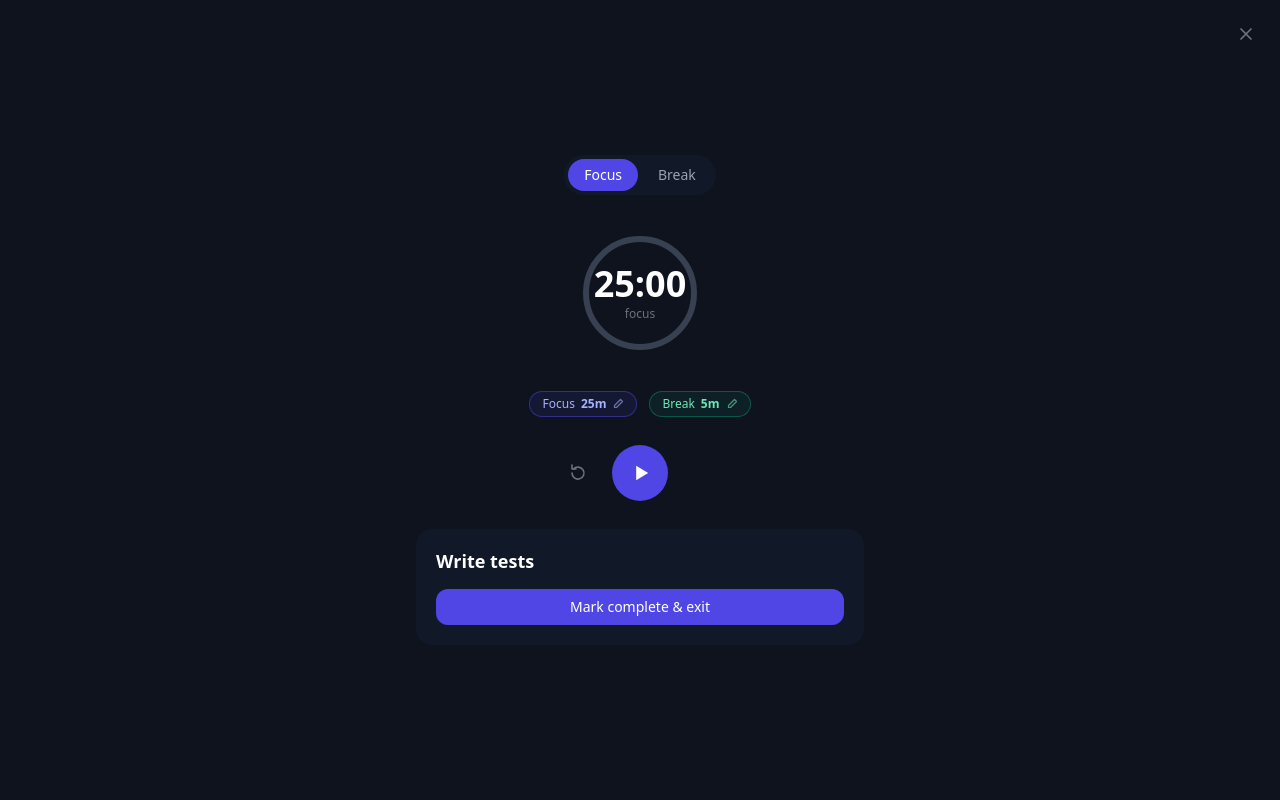
Test: FocusMode – interactions › returns to Start timer after Pause is clicked
Click the button named "start timer": [640, 473] box 612,445 -> 668,501
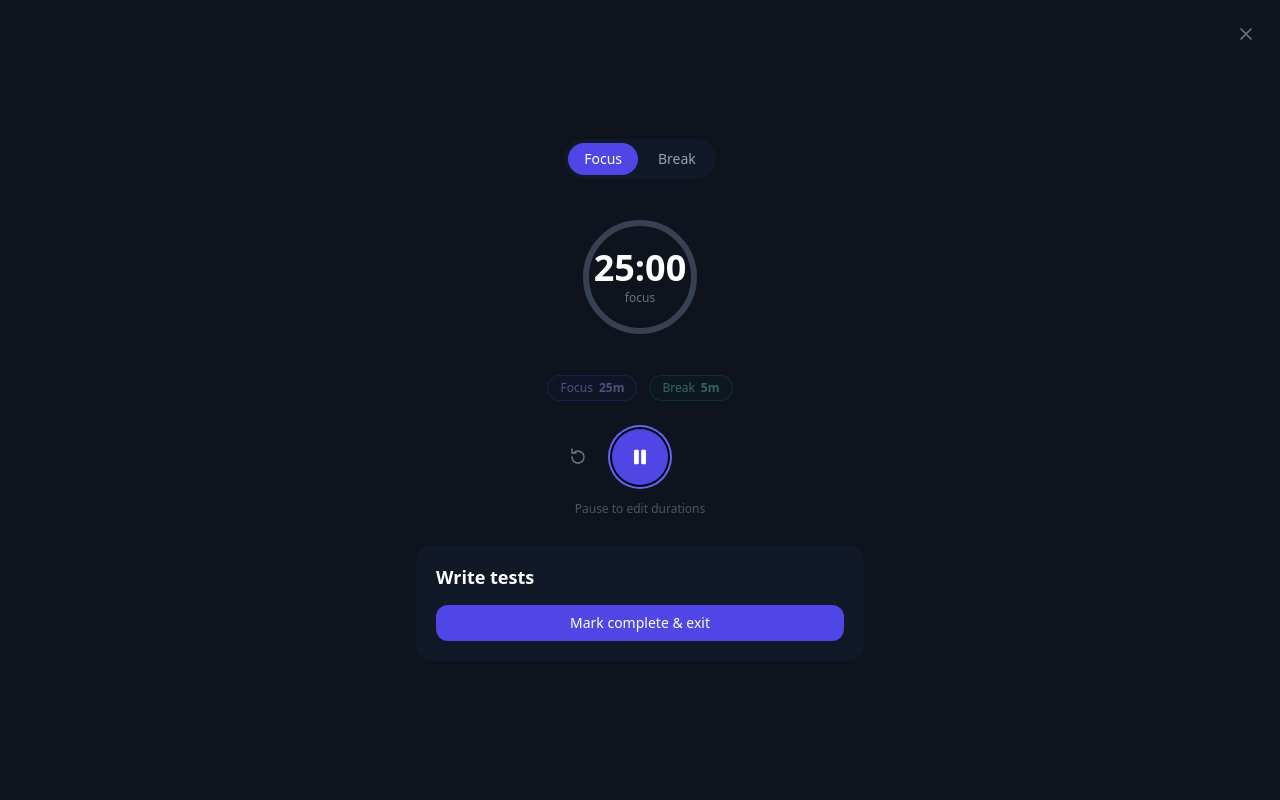
Click the button named "pause timer": [640, 457] box 612,429 -> 668,485
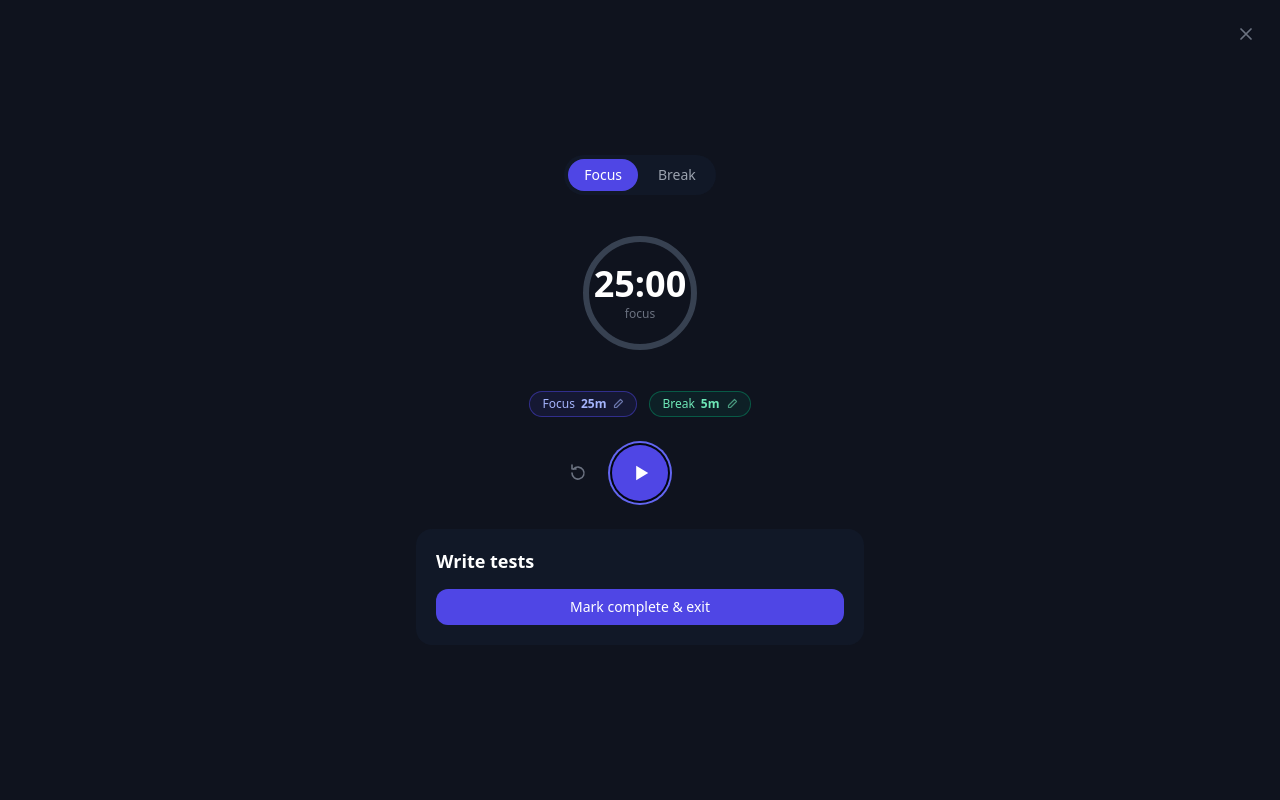
Expected: the button named "start timer" is shown, 612,445 -> 668,501
